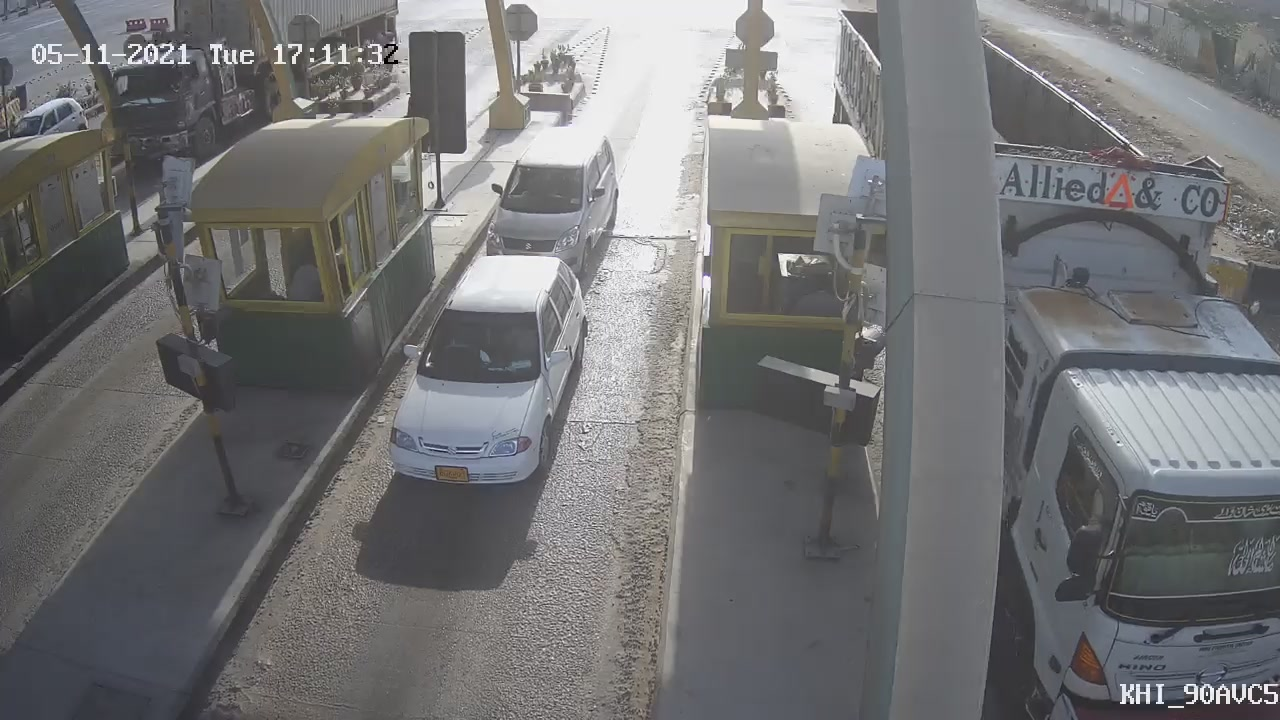F1: (368, 236, 609, 508), (473, 113, 634, 298)
